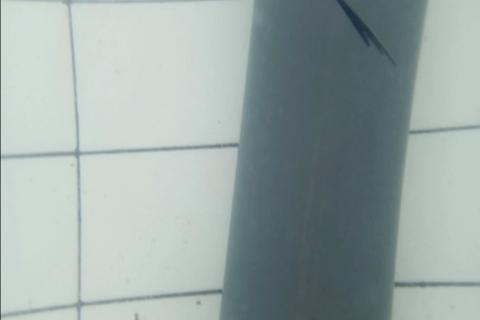keretakan: (333, 0, 397, 72)
